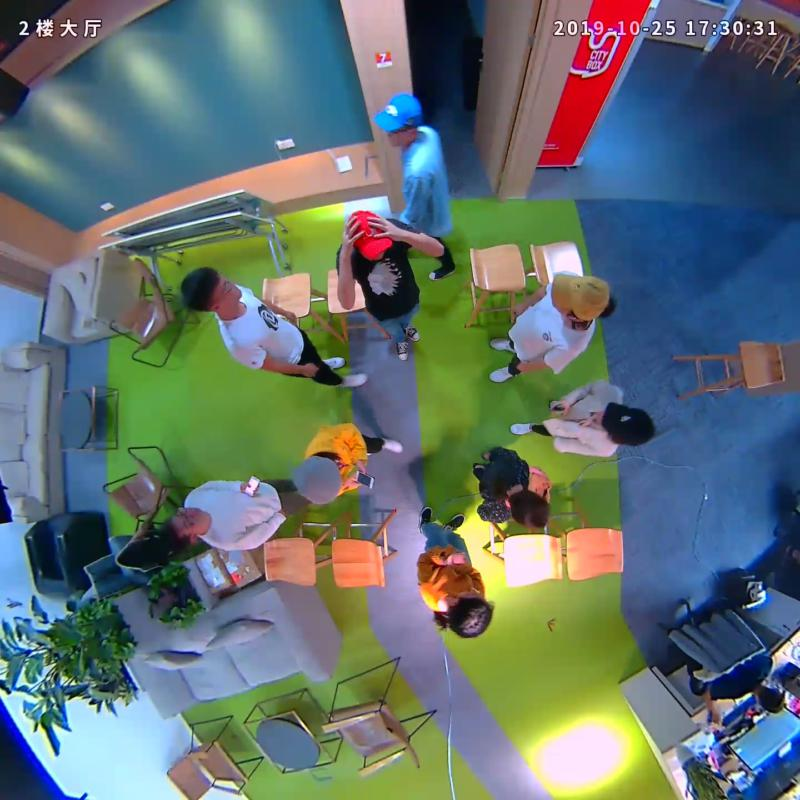head: (548, 269, 611, 323), (180, 267, 242, 313), (373, 92, 421, 148), (291, 455, 343, 506), (346, 208, 394, 260), (600, 401, 654, 447), (445, 591, 494, 639), (160, 505, 208, 546), (509, 489, 549, 531)
